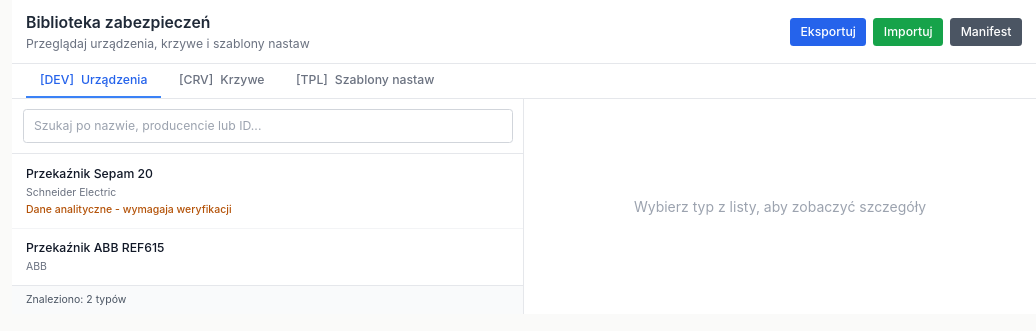
Test: ProtectionLibraryBrowser › filters types by search query
Expected: the text "Przekaźnik Sepam 20" is shown, top-left (26, 166), bottom-right (153, 180)
Expected: the text "Przekaźnik ABB REF615" is shown, top-left (26, 240), bottom-right (164, 255)
Type "Sepam" into the field with placeholder "Szukaj po nazwie, producencie lub ID..." at (268, 126), box top-left (22, 109), bottom-right (512, 142)
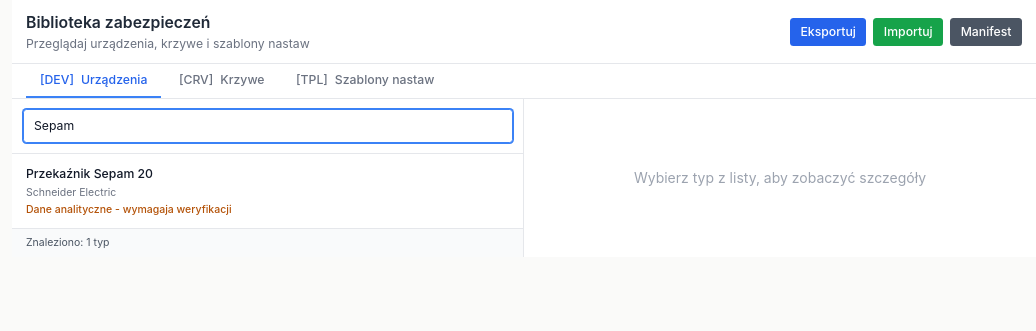
Expected: the text "Przekaźnik Sepam 20" is shown, top-left (26, 166), bottom-right (153, 180)
Now the button "Przekaźnik ABB REF615" is gone
